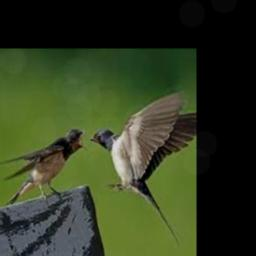Swallow: (90, 90, 196, 245), (0, 128, 86, 205)
